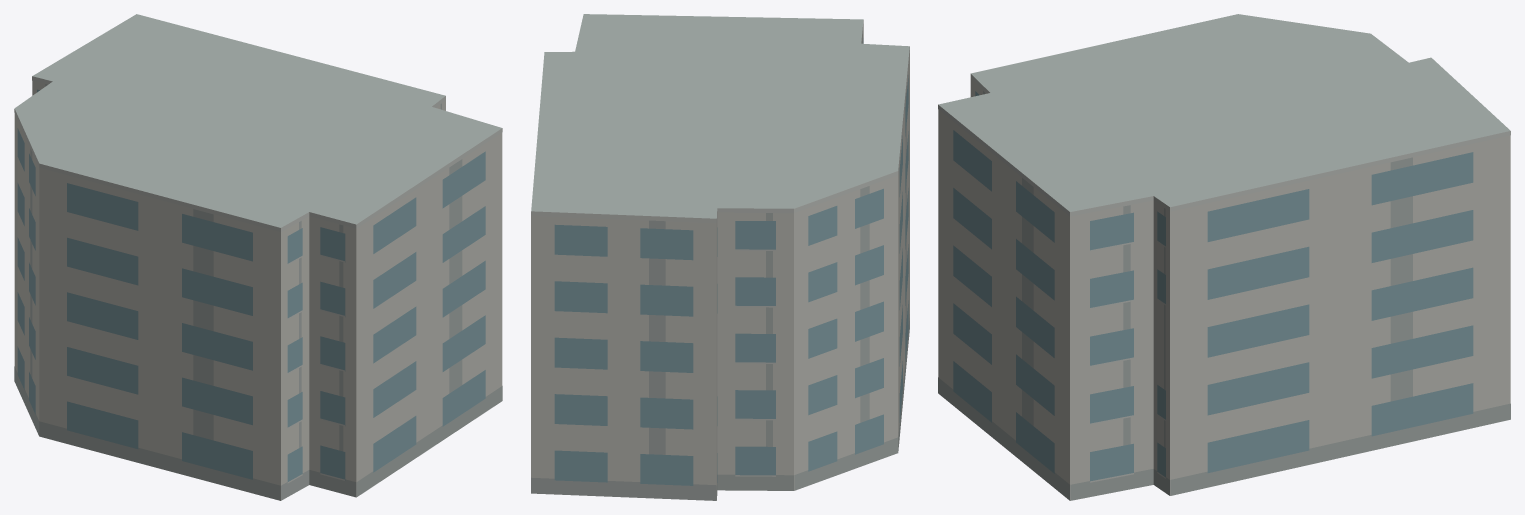
Rendered from survey-upis-32926532.glb.
3 views of the same model, side by side, from view 1: azimuth 30°, elevation 25°; view 2: azimuth 150°, elevation 25°; view 3: azimuth 270°, elevation 25° (orthographic). The views are drawn at different scales.
Parts seen in each view (by area): view 1: survey-upis-32926532.tmp; view 2: survey-upis-32926532.tmp; view 3: survey-upis-32926532.tmp.
Part boxes in pixels (x1,y1,x2,y2): survey-upis-32926532.tmp: [14, 14, 502, 500]; survey-upis-32926532.tmp: [531, 14, 909, 500]; survey-upis-32926532.tmp: [938, 14, 1510, 500].
Bounding box in the file's own units: 22.44 × 15.25 × 27.42.
